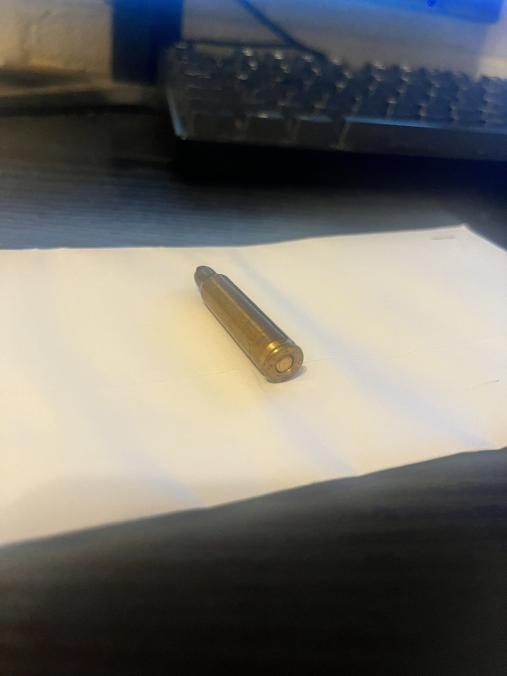556-unfired-blank: (192, 265, 306, 386)
